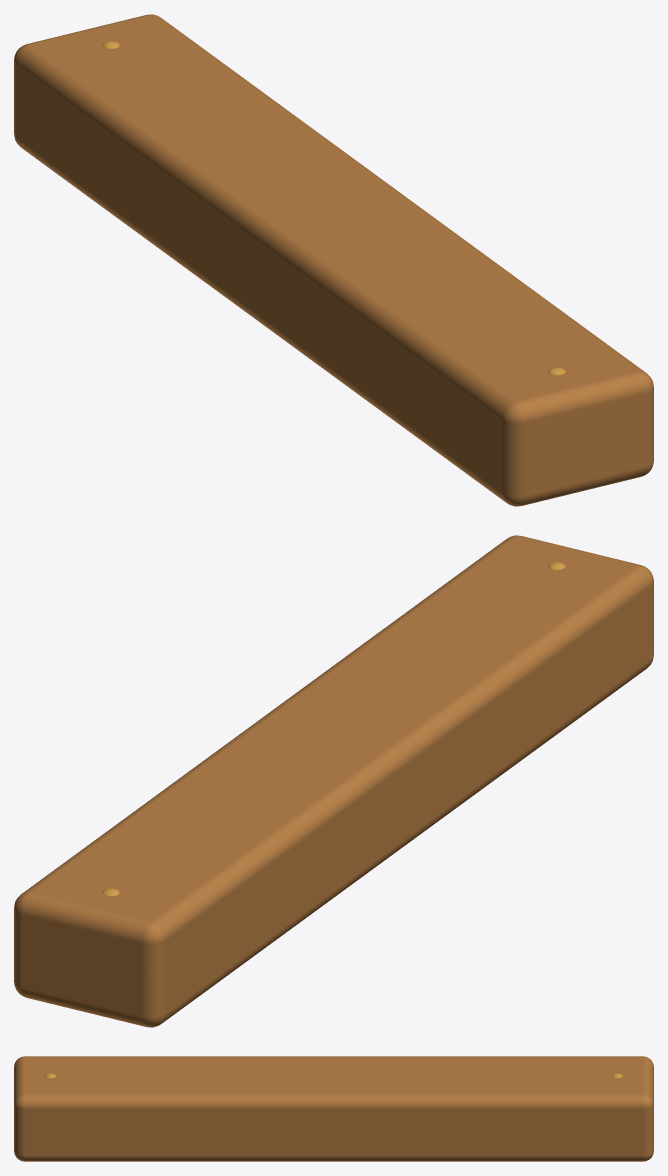
The model's file is fallen-chair-feet-4.glb.
The picture shows the model from 3 angles, top to bottom: view 1: azimuth 30°, elevation 25°; view 2: azimuth 150°, elevation 25°; view 3: azimuth 270°, elevation 25°; orthographic projection. The views are drawn at different scales.
Parts seen in each view (by area): view 1: wood; view 2: wood; view 3: wood.
Part boxes in pixels (x1=…): wood: x1=14, y1=14, x2=653, y2=506; wood: x1=14, y1=535, x2=653, y2=1027; wood: x1=14, y1=1056, x2=653, y2=1161.
Size of the model in its own units: 1.2 by 0.82 by 7.
